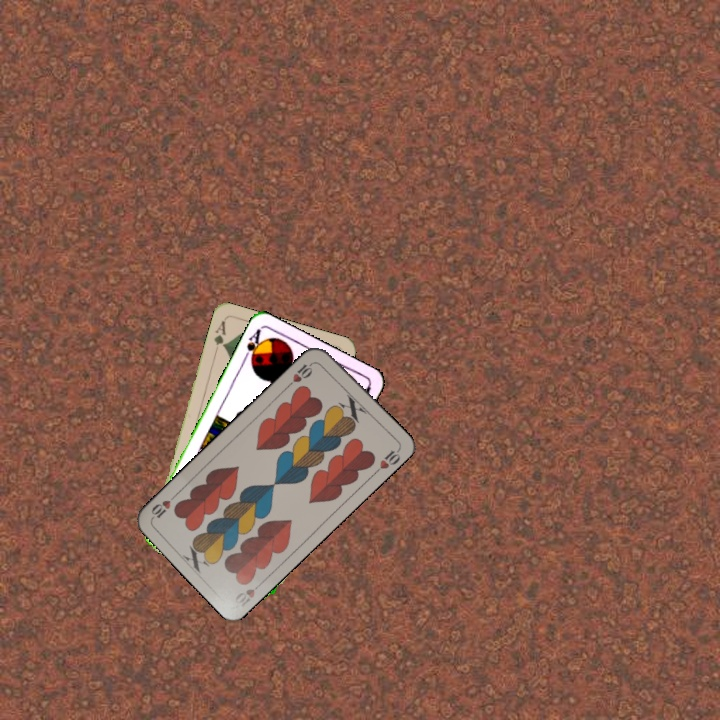GA: (210, 317, 229, 356)
H10: (231, 577, 266, 610), (284, 358, 317, 389)
SA: (239, 325, 266, 366)
